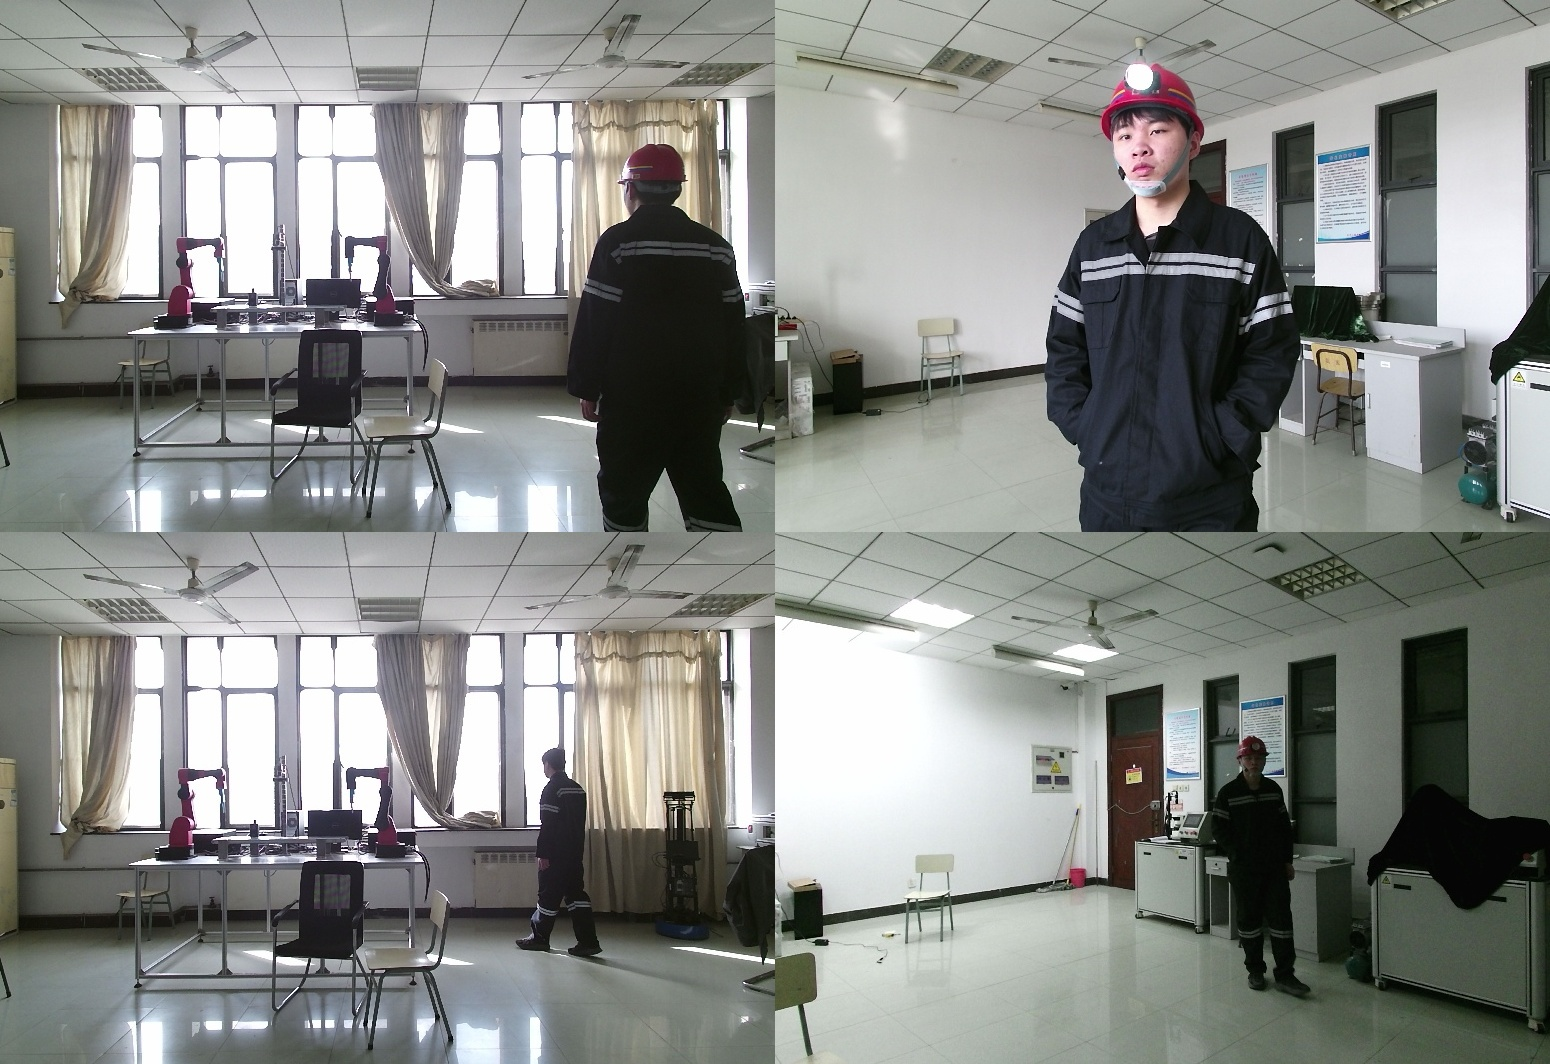person: (1047, 63, 1325, 532), (575, 145, 758, 532), (1211, 738, 1309, 998), (520, 749, 608, 965)
